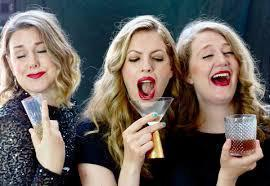Drunk: (195, 38, 239, 100), (127, 38, 169, 101), (9, 35, 54, 93)
